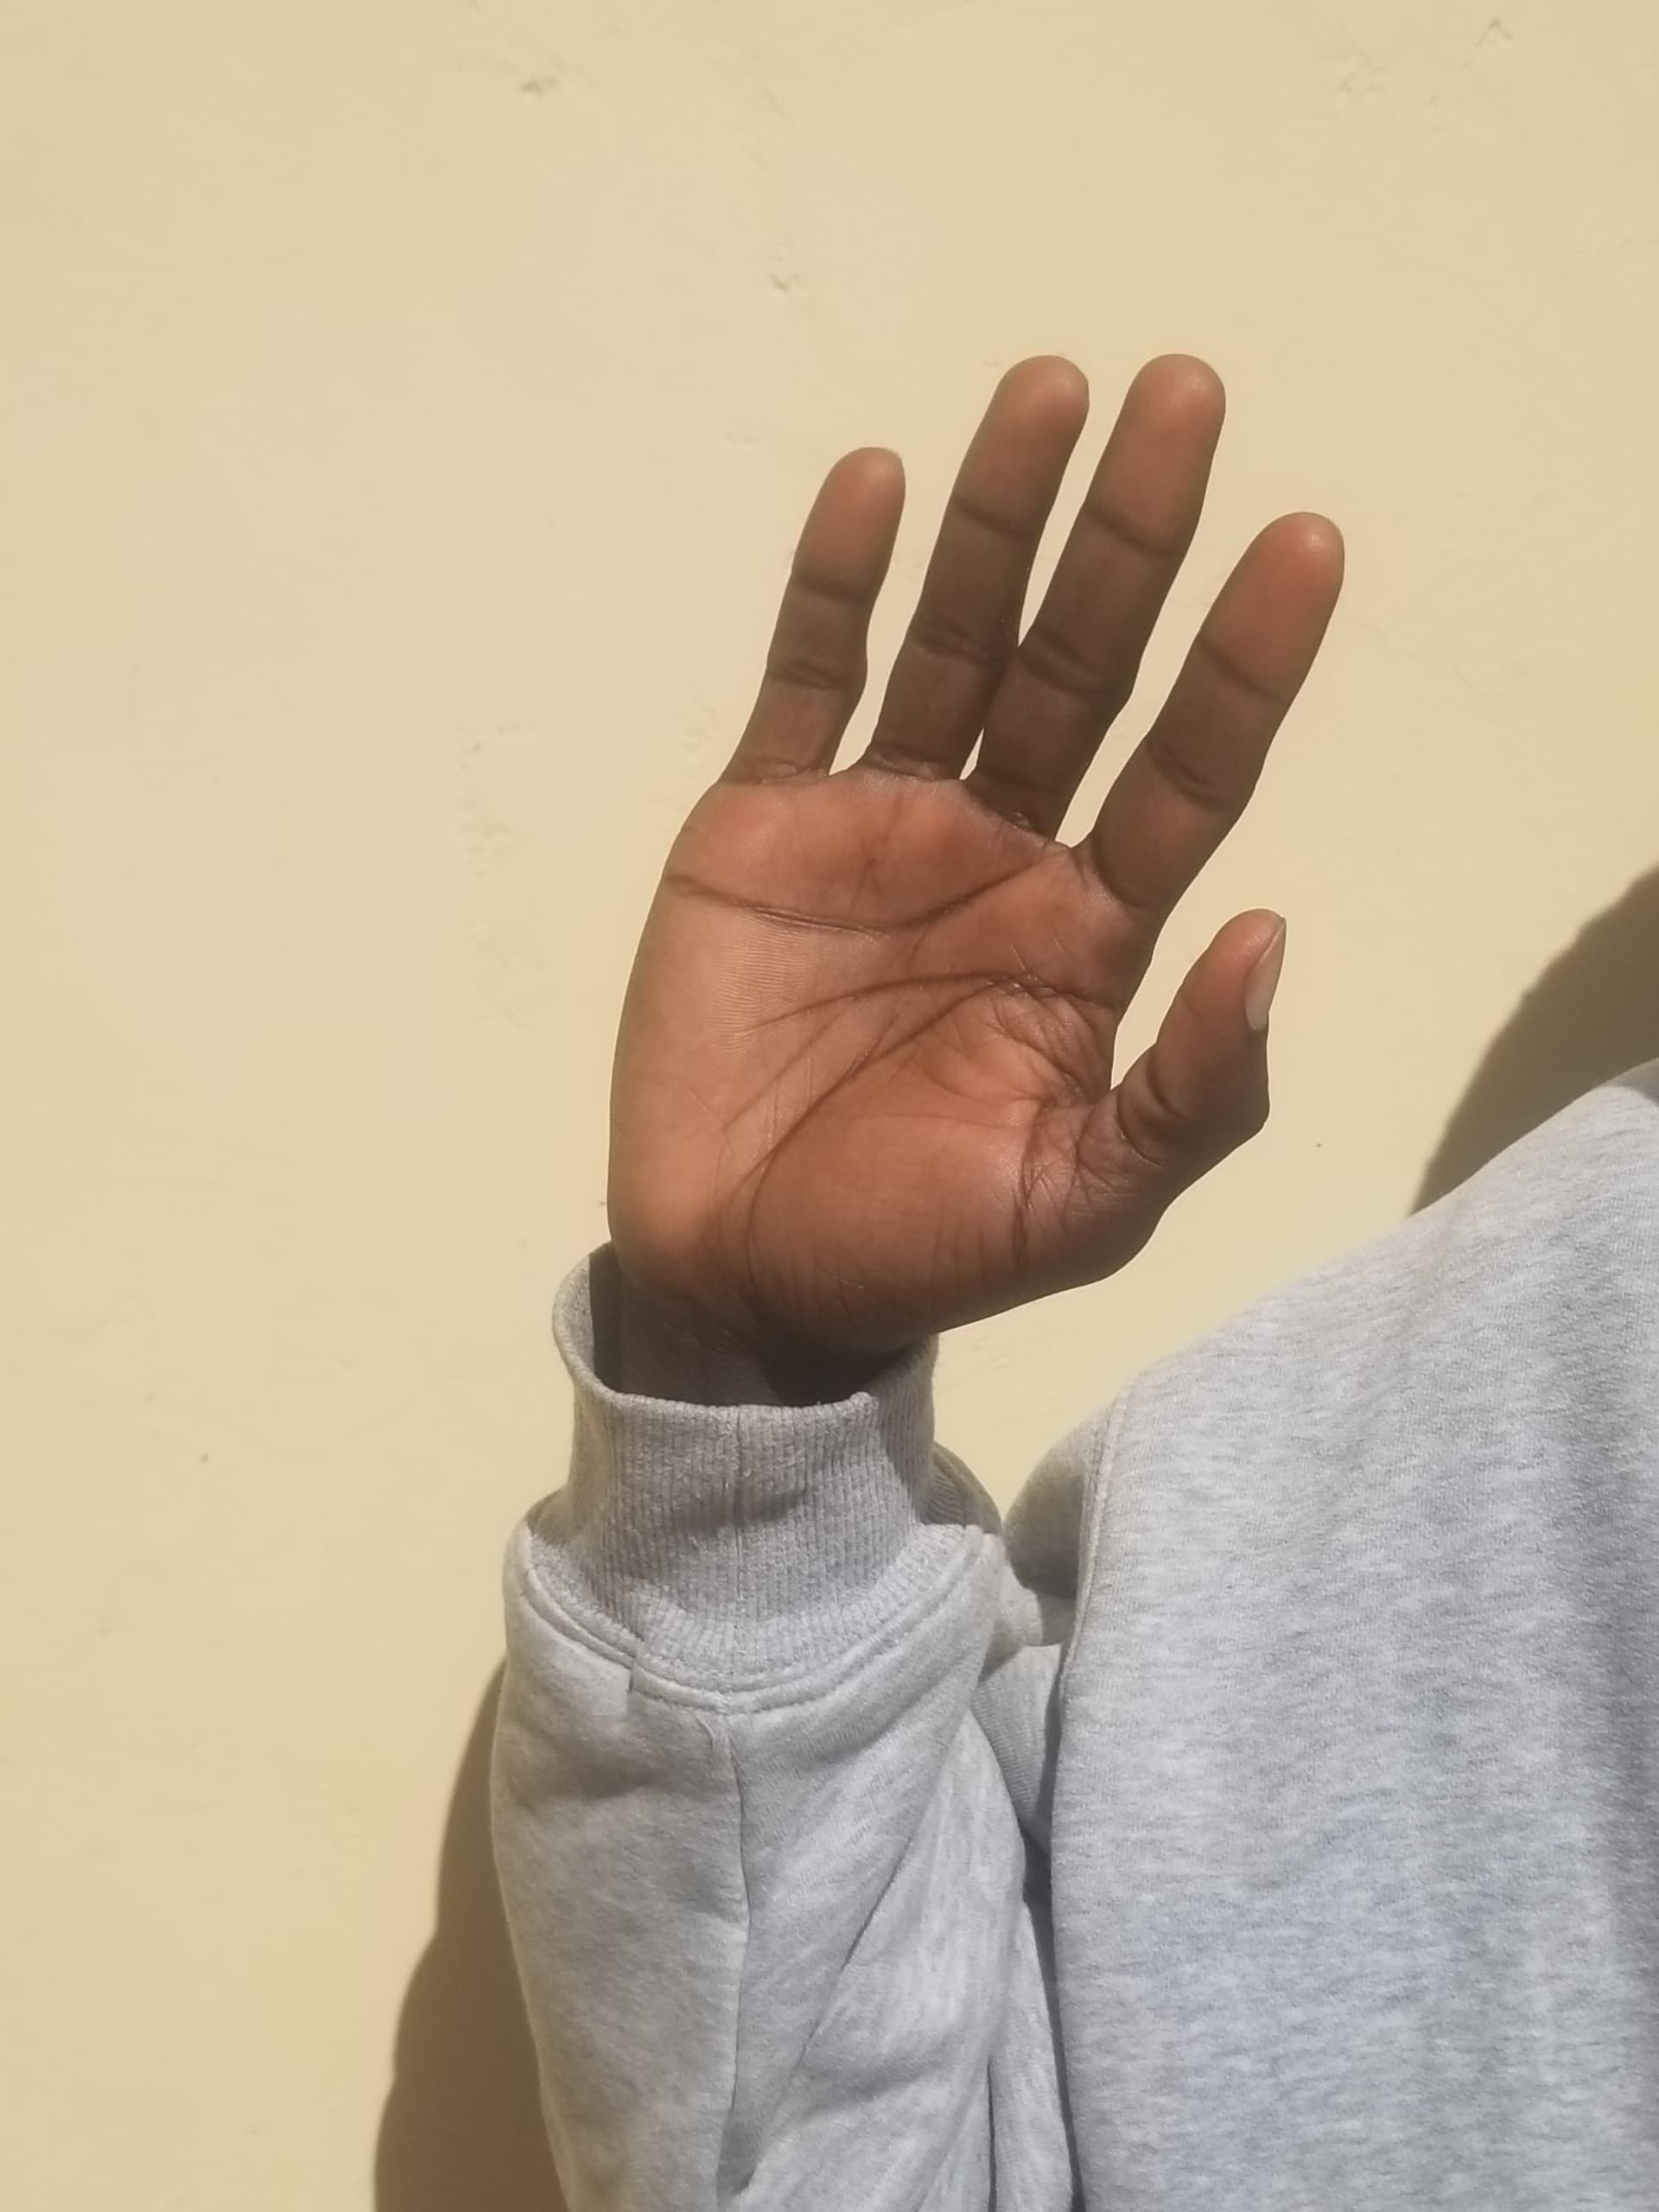hello: (434, 272, 1420, 1804)
